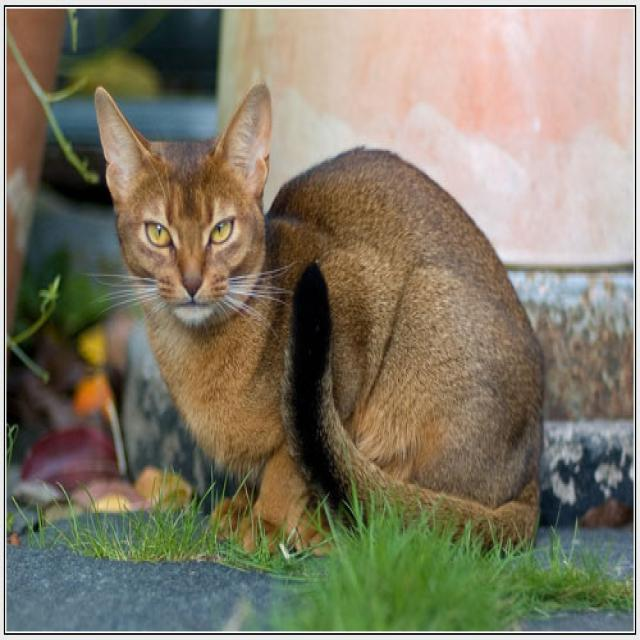Abyssinian: (95, 84, 282, 328)
